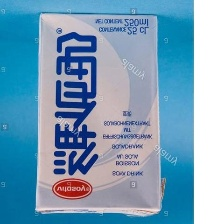carton: (31, 9, 168, 217)
